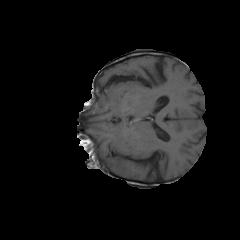glioma: (105, 131, 145, 178)
